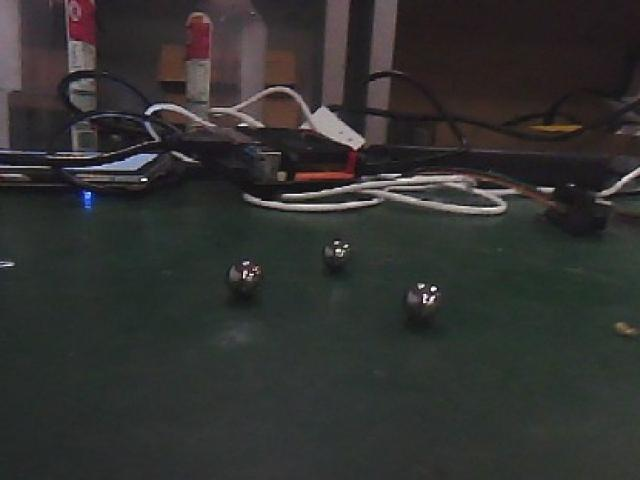steel-ball: (392, 266, 451, 329), (217, 246, 275, 296), (317, 226, 360, 274)
